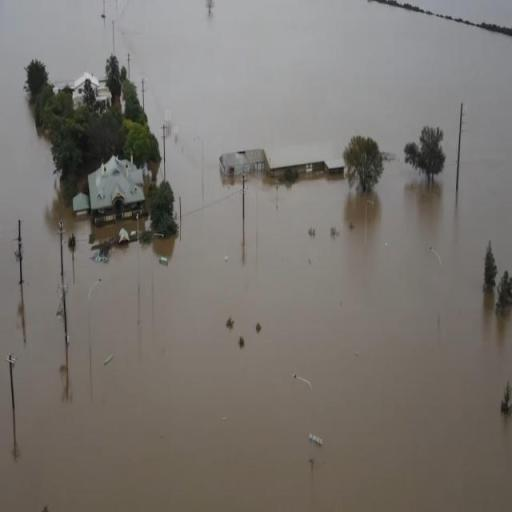flood: (0, 0, 512, 511)
house: (80, 151, 146, 224), (72, 67, 112, 119)
